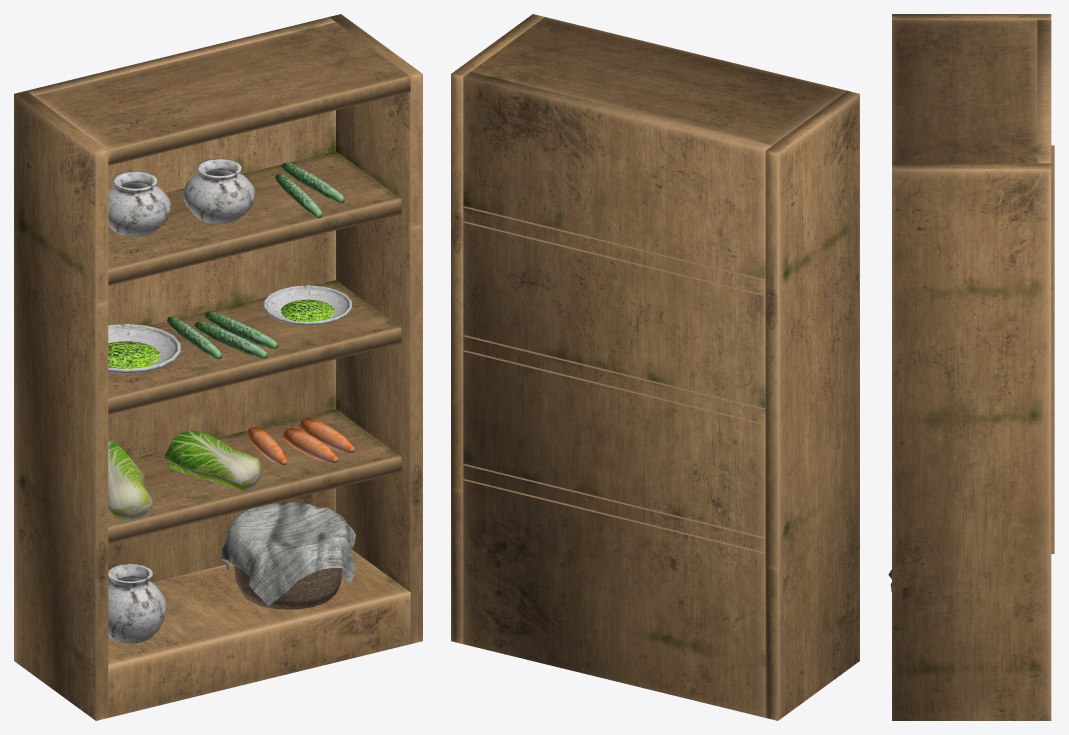
File: Sark_11.FBX
The picture shows the model from 3 angles, left to right: view 1: azimuth 30°, elevation 25°; view 2: azimuth 150°, elevation 25°; view 3: azimuth 270°, elevation 25°; orthographic projection. The views are drawn at different scales.
Parts seen in each view (by area): view 1: Sark_11; view 2: Sark_11; view 3: Sark_11.
Part boxes in pixels (bbox=[...]): Sark_11: bbox=[14, 14, 422, 720]; Sark_11: bbox=[451, 14, 859, 720]; Sark_11: bbox=[888, 14, 1054, 720].
Size of the model in its own units: 44.63 by 74 by 20.2.
